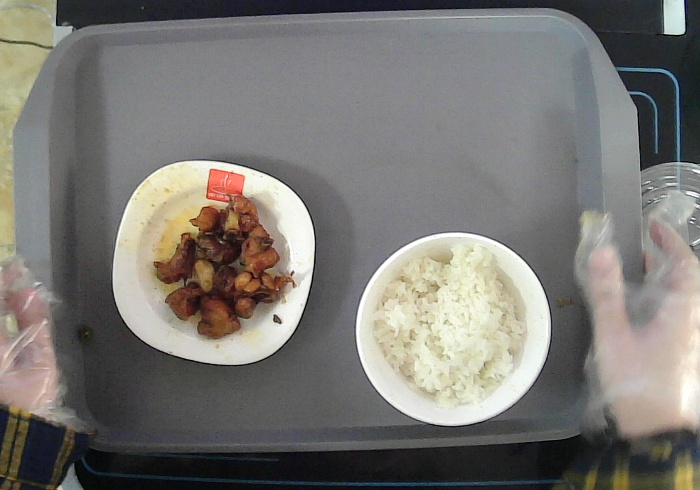SHKJ-Bai_Se_Si_Fang_Cai_Die: (111, 158, 315, 365)
SHKJ-Fan_Wan: (355, 233, 552, 426)
